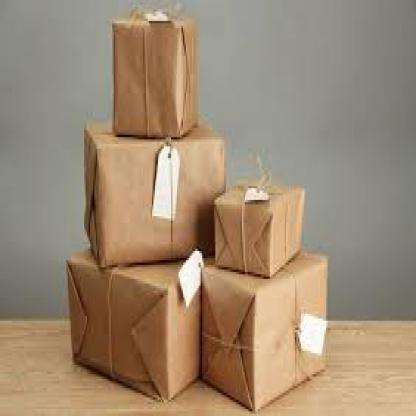paquete: (71, 95, 233, 277), (62, 239, 215, 407), (196, 256, 336, 398), (102, 4, 206, 146), (205, 170, 316, 279)
